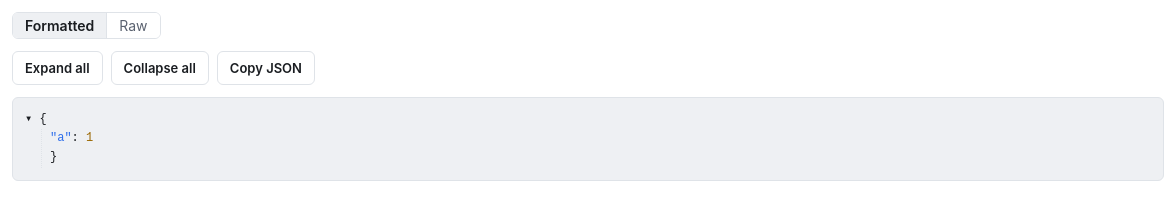
Scenario: JsonView › collapses and re-expands the root node on click
Step 1. Click the button "▾ {" → point(36, 118), box [25, 111, 47, 126]
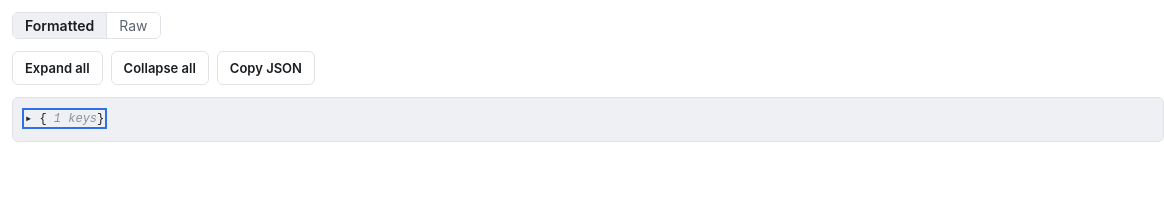
Now the text "\"a\"" is gone
Step 2. Click the button "▸ { 1 keys}" → point(65, 118), box [25, 111, 104, 126]
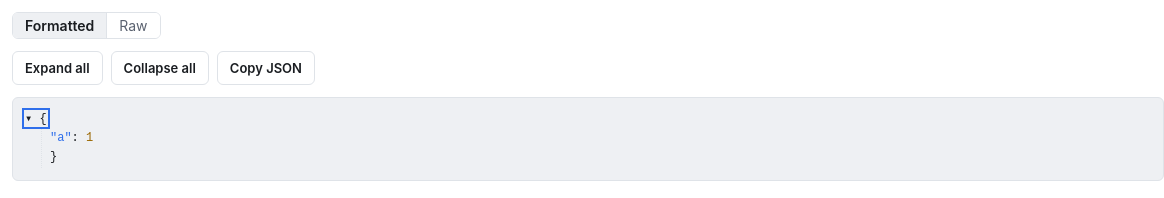
Now the text "\"a\"" is shown, box [50, 131, 72, 145]
